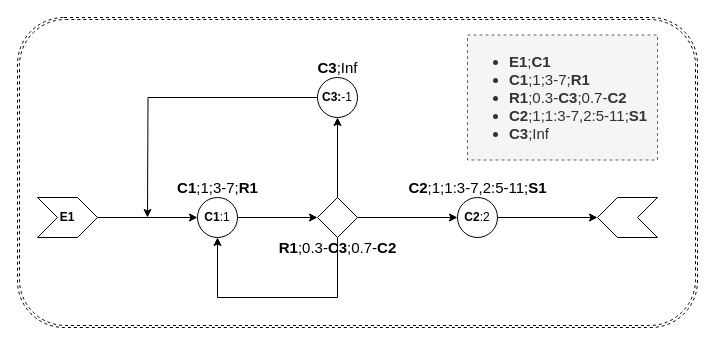
This 715x345 diagram has some shape labels left out. Here are the shapes that lost their labels. From the top down, the box of each, then its label:
(316, 196, 358, 238): R1
(596, 196, 658, 238): S1
